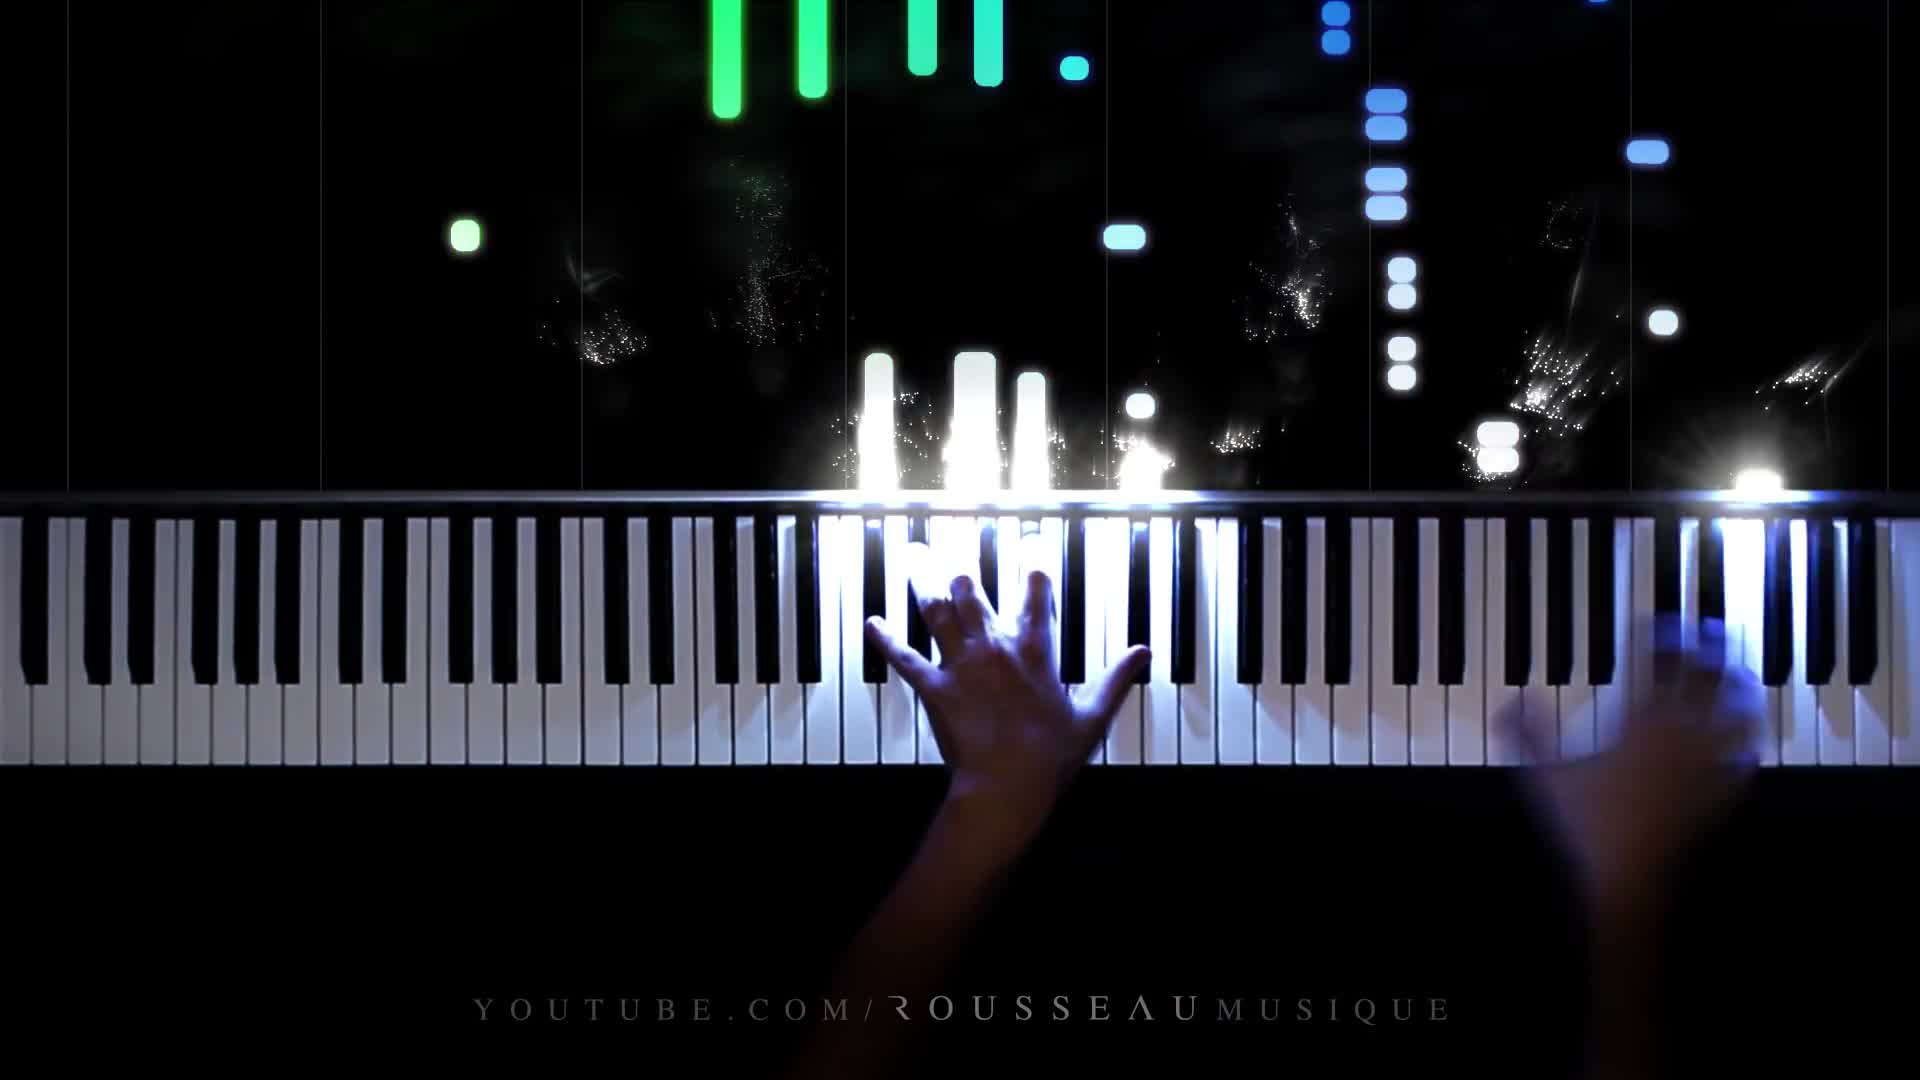left: (870, 530, 1159, 793)
right: (1491, 611, 1778, 894)
